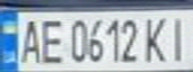0: (66, 16, 87, 64)
1: (103, 15, 121, 63)
2: (121, 15, 142, 63)
6: (84, 15, 106, 64)
A: (15, 15, 45, 65)
E: (36, 15, 66, 65)
I: (163, 12, 193, 63)
K: (139, 12, 172, 64)
